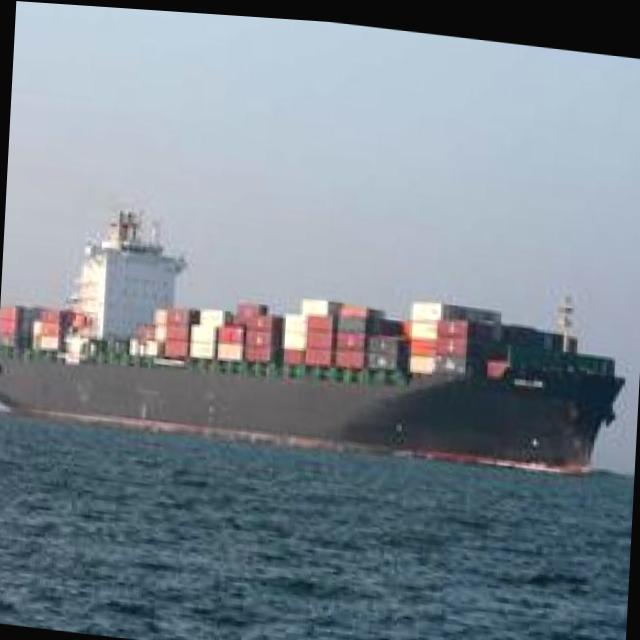ship2: (0, 209, 626, 468)
